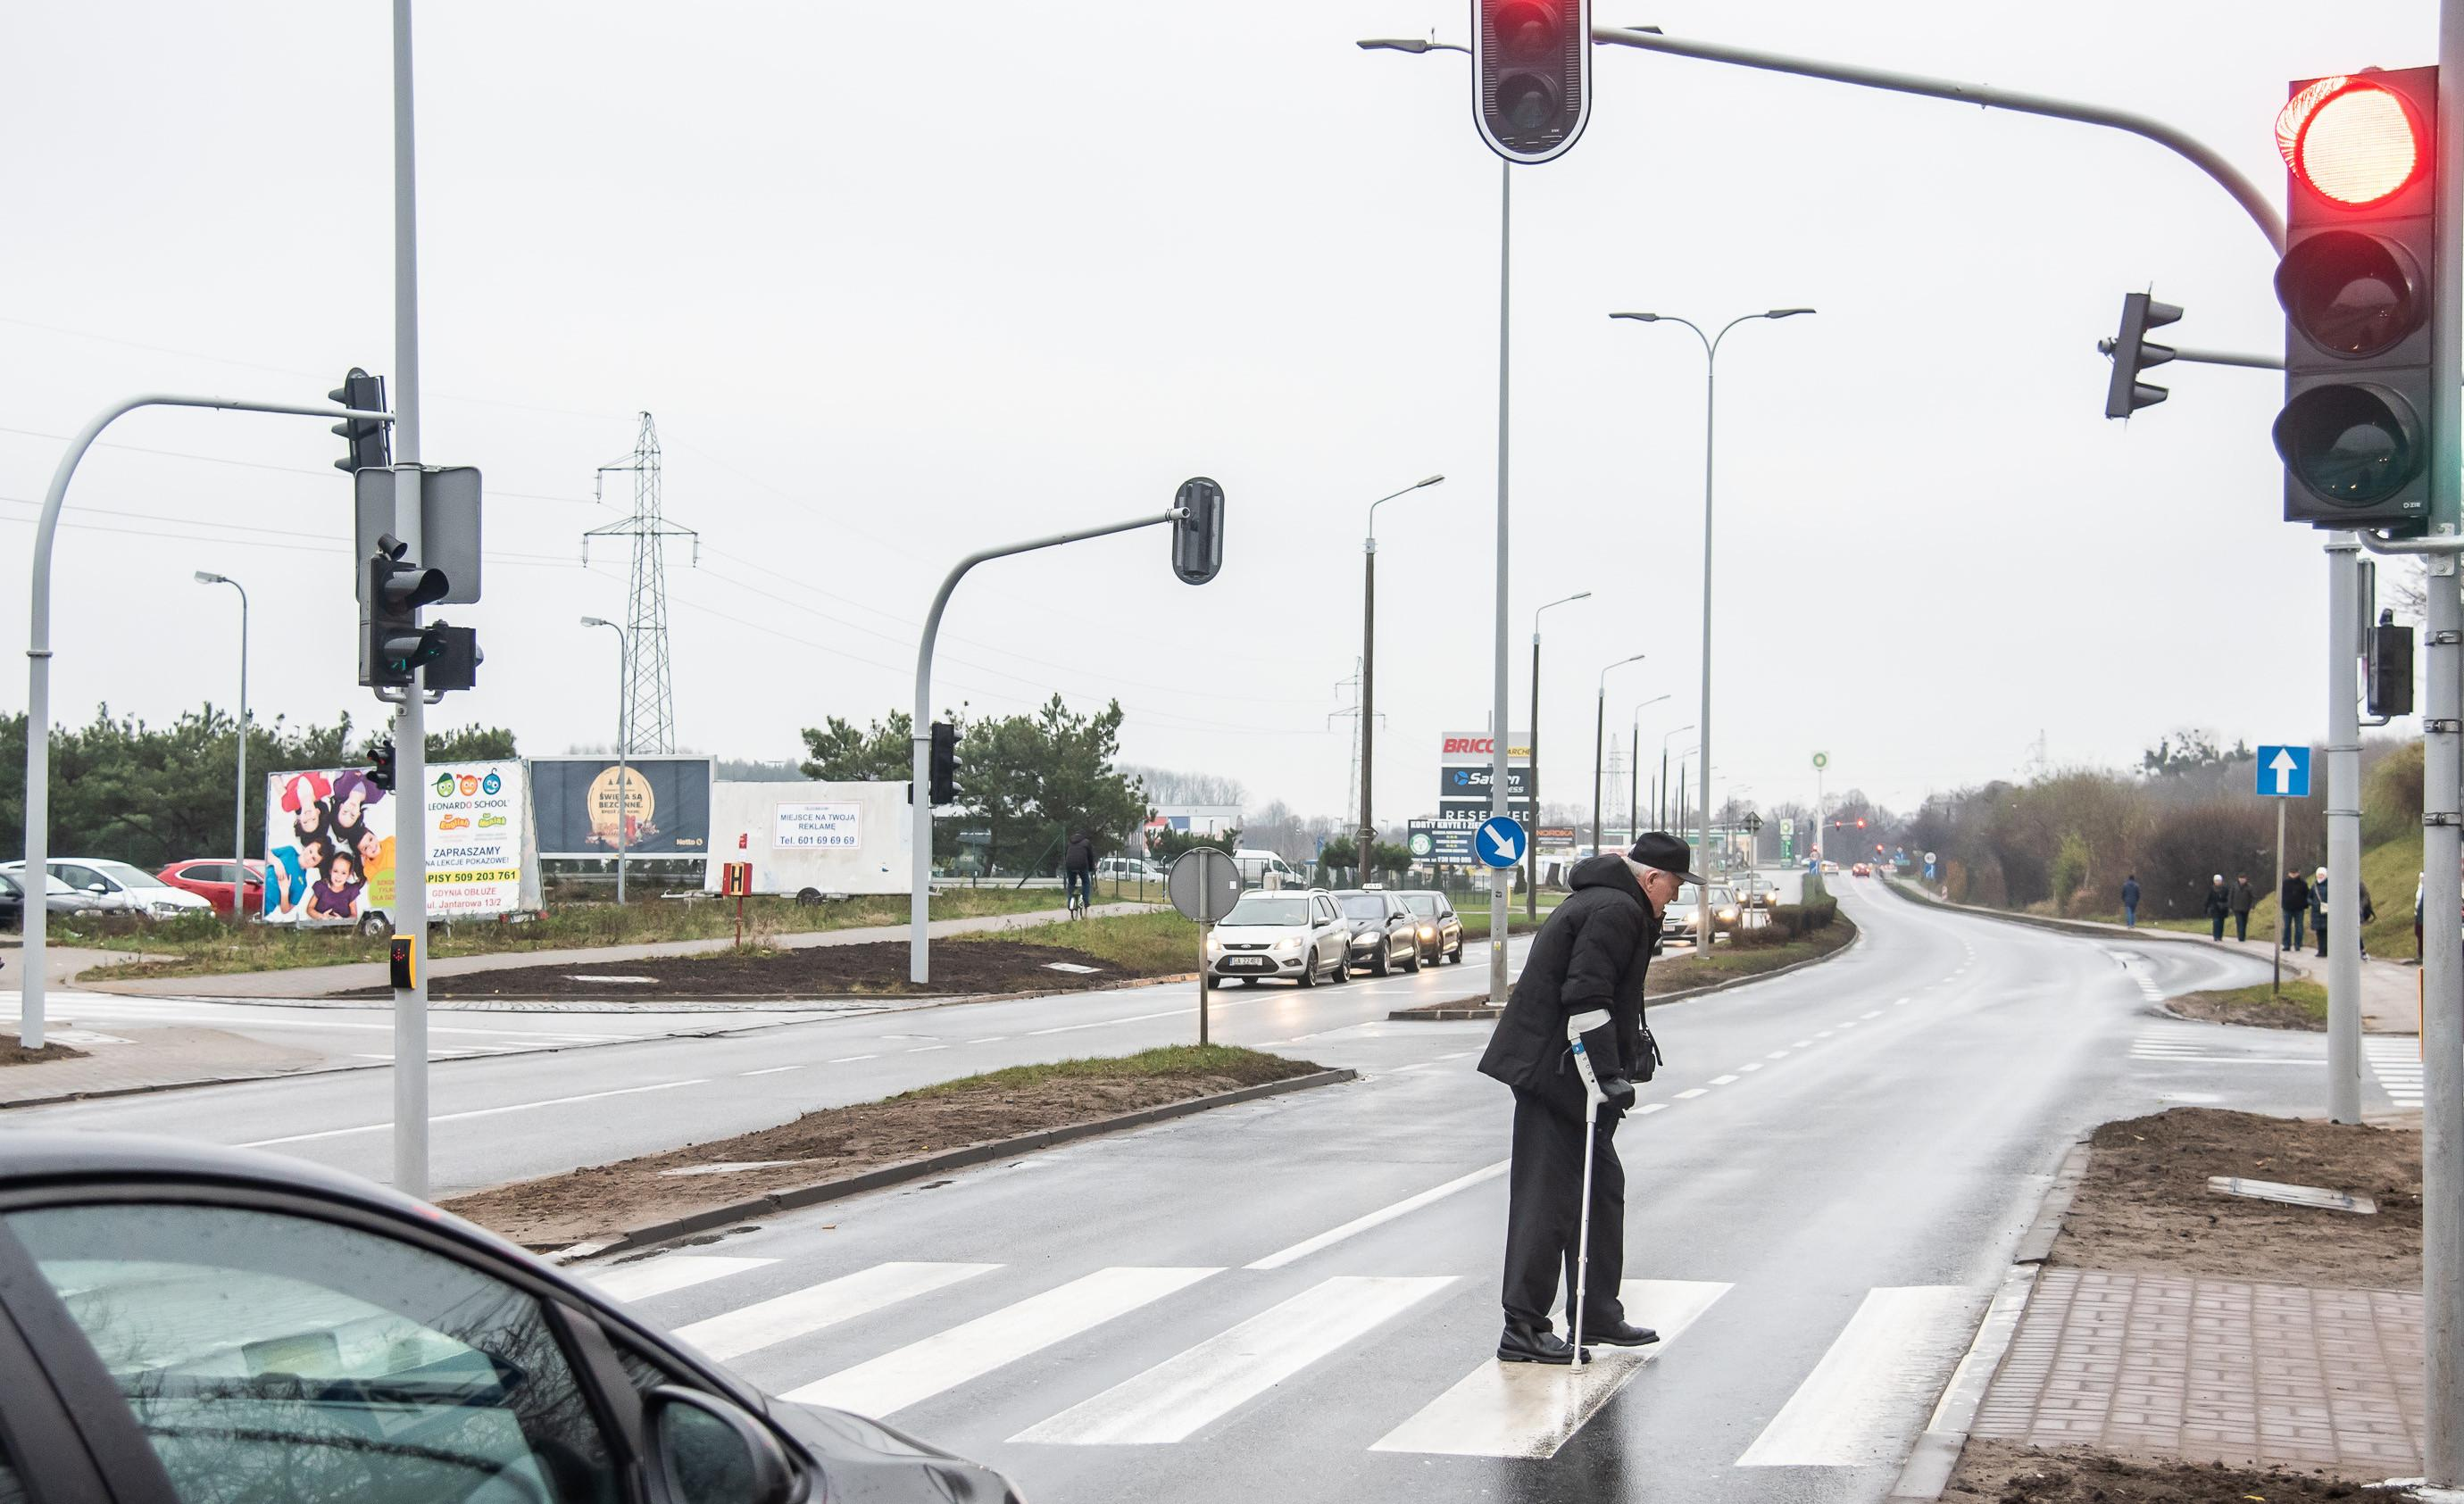crutches: (1477, 832, 1707, 1376)
